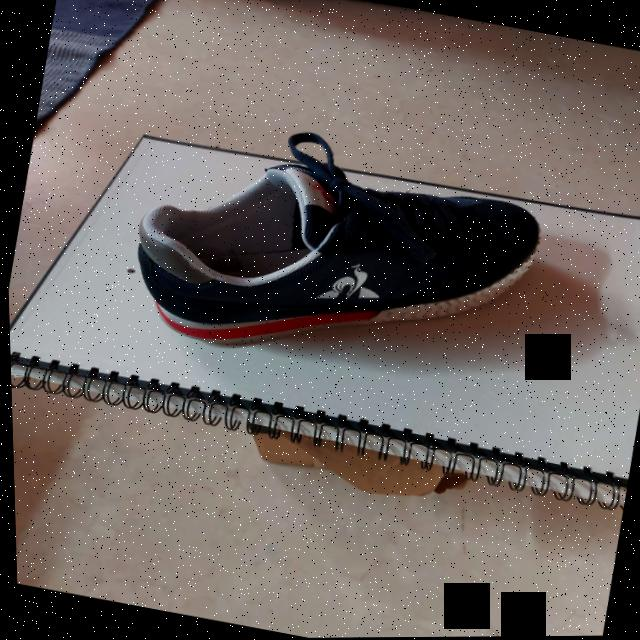shoes: (114, 131, 553, 406)
